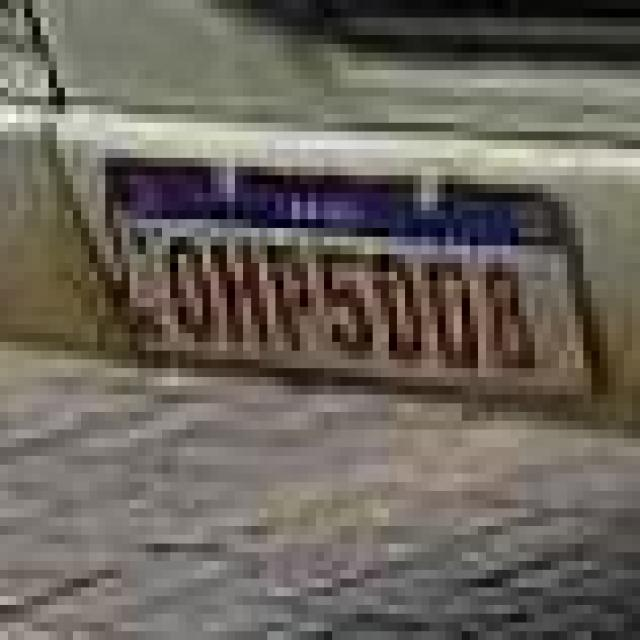0: (426, 250, 480, 372)
5: (322, 245, 368, 368)
8: (480, 254, 536, 378)
D: (373, 241, 421, 373)
H: (209, 217, 270, 339)
O: (159, 222, 218, 341)
P: (264, 234, 320, 340)
